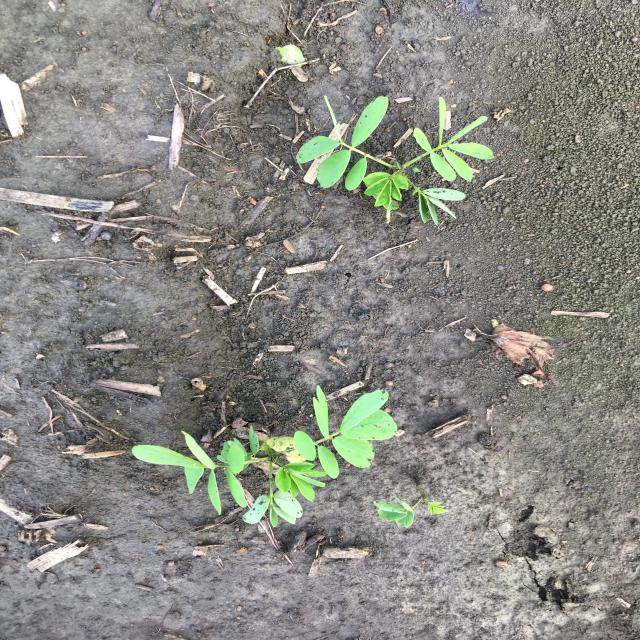Sicklepod: (130, 385, 400, 528), (292, 92, 498, 227)
